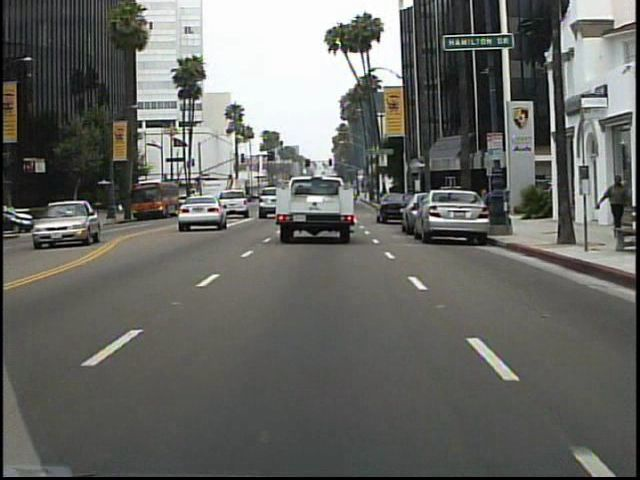person: (593, 173, 628, 233), (93, 195, 108, 224)
